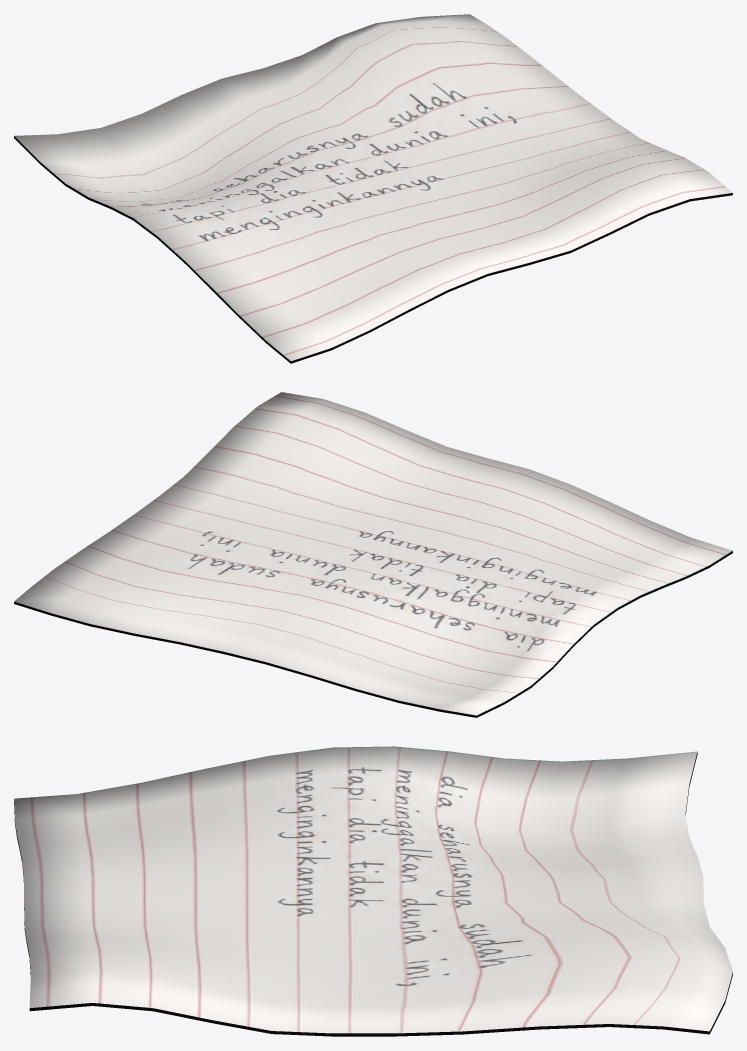
Rendered from Seharusnya.fbx.
3 views of the same model, one above another, from view 1: azimuth 30°, elevation 25°; view 2: azimuth 150°, elevation 25°; view 3: azimuth 270°, elevation 25° (orthographic). The views are drawn at different scales.
Visible parts, largest first — view 1: Seharusnya; view 2: Seharusnya; view 3: Seharusnya.
Part boxes in pixels (left/top/right/bottom): Seharusnya: left=14, top=14, right=732, bottom=363; Seharusnya: left=14, top=392, right=732, bottom=717; Seharusnya: left=14, top=746, right=732, bottom=1036.
Size of the model in its own units: 201 by 27.23 by 212.
